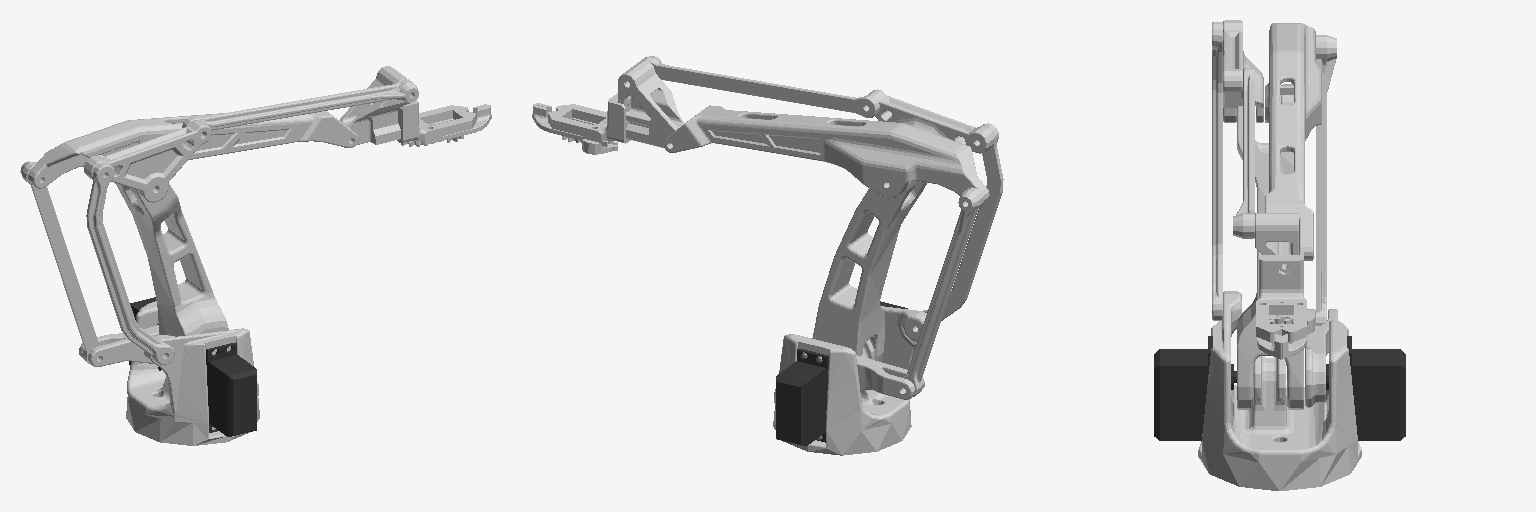
URDF robot description (EEZYbotARM_MK2):
<?xml version="1.0" encoding="UTF-8"?>
<robot name="EEZYbotARM_MK2">

  <!-- Link Definitions -->
  <link name="006_horarm_1">
    <inertial>
      <origin rpy="0.0 0.0 0.0" xyz="-0.04134701426427581 0.0075 0.222512351201859"/>
      <mass value="1.0"/>
      <inertia ixx="1.0" ixy="1.0" ixz="1.0" iyy="1.0" iyz="1.0" izz="1.0"/>
    </inertial>
    <visual>
      <origin rpy="1.2875e-17 0.07293846505771417 -7.7917e-16" xyz="-0.04134701426427581 0.0075 0.222512351201859"/>
      <geometry>
        <mesh filename="meshes/006_horarm_1.obj"/>
      </geometry>
      <material name="material">
        <color rgba="0.8431372549019608 0.8431372549019608 0.8431372549019608 1.0"/>
      </material>
    </visual>
    <collision>
      <origin rpy="0 0 0" xyz="0 0 0"/>
      <geometry>
        <mesh filename="meshes/006_horarm_1.obj"/>
      </geometry>
    </collision>
  </link>

  <link name="EBAmk2_02_1__001_base_1">
    <inertial>
      <origin rpy="1.5708 3.0531e-16 3.14159" xyz="1.00948e-14 -0.0095 -0.0425"/>
      <mass value="1.0"/>
      <inertia ixx="1.0" ixy="1.0" ixz="1.0" iyy="1.0" iyz="1.0" izz="1.0"/>
    </inertial>
    <visual>
      <origin rpy="3.14159 1.22465e-16 1.5708" xyz="-1.00357e-14 -0.0095 0.0685"/>
      <geometry>
        <mesh filename="meshes/EBAmk2_02_1__MG946R_2.stl"/>
      </geometry>
      <material name="material">
        <color rgba="0.2627450980392157 0.2627450980392157 0.2627450980392157 1.0"/>
      </material>
    </visual>
    <visual>
      <origin rpy="-1.5708 1.5708 0.0" xyz="-2.67825e-34 -0.043 0.013"/>
      <geometry>
        <mesh filename="meshes/EBAmk2_02_1__001_base_1.obj"/>
      </geometry>
      <material name="material">
        <color rgba="0.8431372549019608 0.8431372549019608 0.8431372549019608 1.0"/>
      </material>
    </visual>
    <visual>
      <origin rpy="-2.43377e-33 -1.22465e-16 1.5708" xyz="1.00948e-14 -0.0095 -0.0425"/>
      <geometry>
        <mesh filename="meshes/EBAmk2_02_1__MG946R_1.stl"/>
      </geometry>
      <material name="material">
        <color rgba="0.2627450980392157 0.2627450980392157 0.2627450980392157 1.0"/>
      </material>
    </visual>
    <collision>
      <origin rpy="0 0 0" xyz="0 0 0"/>
      <geometry>
        <mesh filename="meshes/EBAmk2_02_1__001_base_1.obj"/>
      </geometry>
    </collision>
  </link>

  <link name="009_trialinkfront_1">
    <inertial>
      <origin rpy="1.5708 1.93641e-16 -3.1362" xyz="-0.0549 -0.01335 -0.0027"/>
      <mass value="1.0"/>
      <inertia ixx="1.0" ixy="1.0" ixz="1.0" iyy="1.0" iyz="1.0" izz="1.0"/>
    </inertial>
    <visual>
      <origin rpy="1.5708 1.27055e-16 3.14159" xyz="-0.0453 -0.00945 -0.0087"/>
      <geometry>
        <mesh filename="meshes/EBAmk2_03_1__014_clawbase_1.stl"/>
      </geometry>
      <material name="material">
        <color rgba="0.8392156862745098 0.8392156862745098 0.8392156862745098 1.0"/>
      </material>
    </visual>
    <visual>
      <origin rpy="3.14159 -2.1825e-17 -2.9577e-16" xyz="-0.0538 -0.01775 3.5e-4"/>
      <geometry>
        <mesh filename="meshes/EBAmk2_03_1__018_clawgeardriven_1.stl"/>
      </geometry>
      <material name="material">
        <color rgba="0.8392156862745098 0.8392156862745098 0.8392156862745098 1.0"/>
      </material>
    </visual>
    <visual>
      <origin rpy="-1.5708 -1.5708 0.0" xyz="-0.0393 -0.0065 0.0"/>
      <geometry>
        <mesh filename="meshes/009_trialinkfront_1.stl"/>
      </geometry>
      <material name="material">
        <color rgba="0.8431372549019608 0.8431372549019608 0.8431372549019608 1.0"/>
      </material>
    </visual>
    <visual>
      <origin rpy="8.73647e-17 9.47009e-19 3.14159" xyz="-0.0538 -0.01275 3.5e-4"/>
      <geometry>
        <mesh filename="meshes/EBAmk2_03_1__017_clawfingersx_1.stl"/>
      </geometry>
      <material name="material">
        <color rgba="0.8431372549019608 0.8431372549019608 0.8431372549019608 1.0"/>
      </material>
    </visual>
    <visual>
      <origin rpy="-3.14159 2.34986e-17 3.14159" xyz="-0.0538 -0.00975 -0.01775"/>
      <geometry>
        <mesh filename="meshes/EBAmk2_03_1__015_clawfingerdx_1.obj"/>
      </geometry>
      <material name="material">
        <color rgba="0.8431372549019608 0.8431372549019608 0.8431372549019608 1.0"/>
      </material>
    </visual>
    <collision>
      <origin rpy="0 0 0" xyz="0 0 0"/>
      <geometry>
        <mesh filename="meshes/EBAmk2_03_1__Part_1_1.stl"/>
      </geometry>
    </collision>
  </link>

  <link name="002_mainarm_1">
    <inertial>
      <origin rpy="1.5708 1.22465e-16 0.31128" xyz="-6.93889e-18 0.135 -0.00525"/>
      <mass value="1.0"/>
      <inertia ixx="1.0" ixy="1.0" ixz="1.0" iyy="1.0" iyz="1.0" izz="1.0"/>
    </inertial>
    <visual>
      <origin rpy="-1.5708 9.03056e-33 3.14159" xyz="-6.93889e-18 0.135 -0.00525"/>
      <geometry>
        <mesh filename="meshes/002_mainarm_1.stl"/>
      </geometry>
      <material name="material">
        <color rgba="0.8392156862745098 0.8392156862745098 0.8392156862745098 1.0"/>
      </material>
    </visual>
    <collision>
      <origin rpy="0 0 0" xyz="0 0 0"/>
      <geometry>
        <mesh filename="meshes/002_mainarm_1.stl"/>
      </geometry>
    </collision>
  </link>

  <link name="008_link_147_1">
    <inertial>
      <origin rpy="-1.5708 -1.95478e-16 -3.073" xyz="0.0735 0.0 0.0"/>
      <mass value="1.0"/>
      <inertia ixx="1.0" ixy="1.0" ixz="1.0" iyy="1.0" iyz="1.0" izz="1.0"/>
    </inertial>
    <visual>
      <origin rpy="0 0 0" xyz="0.0735 0.0 0.0"/>
      <geometry>
        <mesh filename="meshes/008_link_147_1.obj"/>
      </geometry>
      <material name="material">
        <color rgba="0.8431372549019608 0.8431372549019608 0.8431372549019608 1.0"/>
      </material>
    </visual>
    <collision>
      <origin rpy="0 0 0" xyz="0 0 0"/>
      <geometry>
        <mesh filename="meshes/008_link_147_1.obj"/>
      </geometry>
    </collision>
  </link>

  <link name="003_VArm_1">
    <inertial>
      <origin rpy="1.5708 4.31799e-15 -1.64373" xyz="1.38778e-17 -0.057 -0.005"/>
      <mass value="1.0"/>
      <inertia ixx="1.0" ixy="1.0" ixz="1.0" iyy="1.0" iyz="1.0" izz="1.0"/>
    </inertial>
    <visual>
      <origin rpy="0 1.83697e-16 1.5708" xyz="1.38778e-17 -0.057 -0.005"/>
      <geometry>
        <mesh filename="meshes/003_VArm_1.stl"/>
      </geometry>
      <material name="material">
        <color rgba="0.8392156862745098 0.8392156862745098 0.8392156862745098 1.0"/>
      </material>
    </visual>
    <collision>
      <origin rpy="0 0 0" xyz="0 0 0"/>
      <geometry>
        <mesh filename="meshes/003_VArm_1.stl"/>
      </geometry>
    </collision>
  </link>

  <link name="007_trialink_1">
    <inertial>
      <origin rpy="1.5708 6.56709e-16 0.110752" xyz="0.0 0.0 0.003"/>
      <mass value="1.0"/>
      <inertia ixx="1.0" ixy="1.0" ixz="1.0" iyy="1.0" iyz="1.0" izz="1.0"/>
    </inertial>
    <visual>
      <origin rpy="1.5708 -5.54668e-32 0.0" xyz="0.0 0.0 0.003"/>
      <geometry>
        <mesh filename="meshes/007_trialink_1.obj"/>
      </geometry>
      <material name="material">
        <color rgba="0.8431372549019608 0.8431372549019608 0.8431372549019608 1.0"/>
      </material>
    </visual>
    <collision>
      <origin rpy="0 0 0" xyz="0 0 0"/>
      <geometry>
        <mesh filename="meshes/007_trialink_1.obj"/>
      </geometry>
    </collision>
  </link>

  <link name="004_link_135_1">
    <inertial>
      <origin rpy="-1.5708 -1.1803e-14 1.25952" xyz="0.0675 -3.46945e-18 0.0"/>
      <mass value="1.0"/>
      <inertia ixx="1.0" ixy="1.0" ixz="1.0" iyy="1.0" iyz="1.0" izz="1.0"/>
    </inertial>
    <visual>
      <origin rpy="3.14159 7.88861e-31 -5.55112e-17" xyz="0.0675 -3.46945e-18 0.0"/>
      <geometry>
        <mesh filename="meshes/004_link_135_1.obj"/>
      </geometry>
      <material name="material">
        <color rgba="0.8431372549019608 0.8431372549019608 0.8431372549019608 1.0"/>
      </material>
    </visual>
    <collision>
      <origin rpy="0 0 0" xyz="0 0 0"/>
      <geometry>
        <mesh filename="meshes/004_link_135_1.obj"/>
      </geometry>
    </collision>
  </link>

  <link name="EBAmk2_03_1__016_1">
    <inertial>
      <origin rpy="3.14159 -0.00539241 0.669058" xyz="-0.151703 -0.201779 -0.0042"/>
      <mass value="1.0"/>
      <inertia ixx="1.0" ixy="1.0" ixz="1.0" iyy="1.0" iyz="1.0" izz="1.0"/>
    </inertial>
    <visual>
      <origin rpy="-1.5708 -6.67869e-17 -0.00539241" xyz="-0.151703 -0.201779 -0.0042"/>
      <geometry>
        <mesh filename="meshes/EBAmk2_03_1__016_1.stl"/>
      </geometry>
      <material name="material">
        <color rgba="0.8392156862745098 0.8392156862745098 0.8392156862745098 1.0"/>
      </material>
    </visual>
    <collision>
      <origin rpy="0 0 0" xyz="0 0 0"/>
      <geometry>
        <mesh filename="meshes/EBAmk2_03_1__016_1.stl"/>
      </geometry>
    </collision>
  </link>

  <link name="005_link_135angled_1">
    <inertial>
      <origin rpy="1.5708 1.92908e-16 -1.25956" xyz="0.0675 -2.60209e-18 -3.46945e-18"/>
      <mass value="1.0"/>
      <inertia ixx="1.0" ixy="1.0" ixz="1.0" iyy="1.0" iyz="1.0" izz="1.0"/>
    </inertial>
    <visual>
      <origin rpy="3.14159 -4.93038e-32 0.0" xyz="0.0675 -2.60209e-18 -3.46945e-18"/>
      <geometry>
        <mesh filename="meshes/005_link_135angled_1.stl"/>
      </geometry>
      <material name="material">
        <color rgba="0.8431372549019608 0.8431372549019608 0.8431372549019608 1.0"/>
      </material>
    </visual>
    <collision>
      <origin rpy="0 0 0" xyz="0 0 0"/>
      <geometry>
        <mesh filename="meshes/005_link_135angled_1.stl"/>
      </geometry>
    </collision>
  </link>

  <!-- Joint Definitions (9 joints for a tree with 10 links) -->
  <joint name="Cylindrical_3" type="continuous">
    <origin rpy="-7.88702e-17 1.82847e-16 -2.83032" xyz="6.93889e-18 0.135 -0.0135"/>
    <parent link="002_mainarm_1"/>
    <child link="EBAmk2_02_1__001_base_1"/>
    <axis xyz="0 0 1"/>
    <limit effort="10.0" lower="-1.79769e+308" upper="1.79769e+308" velocity="1.0"/>
  </joint>

  <joint name="Revolute_4" type="revolute">
    <origin rpy="-1.5708 -0.31128 1.22465e-16" xyz="-0.041347 0.0005 0.222512"/>
    <parent link="006_horarm_1"/>
    <child link="002_mainarm_1"/>
    <axis xyz="0 0 1"/>
    <limit effort="10.0" lower="-1.79769e+308" upper="1.79769e+308" velocity="1.0"/>
  </joint>

  <joint name="Cylindrical_4" type="continuous">
    <origin rpy="-4.22896e-16 -5.84567e-16 0.200524" xyz="-2.42861e-17 2.77556e-17 -0.0215"/>
    <parent link="002_mainarm_1"/>
    <child link="007_trialink_1"/>
    <axis xyz="0 0 1"/>
    <limit effort="10.0" lower="-1.79769e+308" upper="1.79769e+308" velocity="1.0"/>
  </joint>

  <joint name="Revolute_6" type="revolute">
    <origin rpy="6.31378e-16 -4.48168e-16 1.37032" xyz="-0.0355 -0.024264 -0.007"/>
    <parent link="007_trialink_1"/>
    <child link="005_link_135angled_1"/>
    <axis xyz="0 0 1"/>
    <limit effort="10.0" lower="-1.79769e+308" upper="1.79769e+308" velocity="1.0"/>
  </joint>

  <joint name="Revolute_8" type="revolute">
    <origin rpy="1.5708 1.25952 -3.58709e-15" xyz="-0.098195 0.01745 0.226666"/>
    <parent link="006_horarm_1"/>
    <child link="004_link_135_1"/>
    <axis xyz="0 0 1"/>
    <limit effort="10.0" lower="-1.79769e+308" upper="1.79769e+308" velocity="1.0"/>
  </joint>

  <joint name="Cylindrical_2" type="continuous">
    <origin rpy="-3.14159 5.71537e-15 -0.384215" xyz="0.135 -3.46945e-18 -5e-5"/>
    <parent link="004_link_135_1"/>
    <child link="003_VArm_1"/>
    <axis xyz="0 0 1"/>
    <limit effort="10.0" lower="-1.79769e+308" upper="1.79769e+308" velocity="1.0"/>
  </joint>

  <joint name="Revolute_3" type="revolute">
    <origin rpy="1.5708 0.00539241 -3.14159" xyz="0.105262 0.0095 0.2118"/>
    <parent link="006_horarm_1"/>
    <child link="009_trialinkfront_1"/>
    <axis xyz="0 0 1"/>
    <limit effort="10.0" lower="-1.79769e+308" upper="1.79769e+308" velocity="1.0"/>
  </joint>

  <joint name="Revolute_5" type="revolute">
    <origin rpy="3.14159 1.04342e-17 0.0739849" xyz="-0.0328 0.0285 -0.022"/>
    <parent link="009_trialinkfront_1"/>
    <child link="008_link_147_1"/>
    <axis xyz="0 0 1"/>
    <limit effort="10.0" lower="-1.79769e+308" upper="1.79769e+308" velocity="1.0"/>
  </joint>

  <joint name="EBAmk2_03" type="revolute">
    <origin rpy="-1.5708 -0.669058 3.14159" xyz="-0.31585 -0.01675 -0.0728836"/>
    <parent link="009_trialinkfront_1"/>
    <child link="EBAmk2_03_1__016_1"/>
    <axis xyz="0 0 1"/>
    <limit effort="10.0" lower="-1.79769e+308" upper="1.79769e+308" velocity="1.0"/>
  </joint>

</robot>

--- Facts derived from the render (not from the file) ---
Views: 3 orthographic renders of the robot side by side, from view 1: azimuth 30°, elevation 25°; view 2: azimuth 150°, elevation 25°; view 3: azimuth 270°, elevation 25°.
Model EEZYbotARM_MK2 with 10 links and 9 joints (6 revolute, 3 continuous), rooted at 006_horarm_1, posed all joints at 0.
Links seen in each view (by area): view 1: EBAmk2_02_1__001_base_1, 006_horarm_1, 002_mainarm_1, 009_trialinkfront_1, 007_trialink_1, 005_link_135angled_1, 008_link_147_1, 004_link_135_1, 003_VArm_1; view 2: 006_horarm_1, EBAmk2_02_1__001_base_1, 002_mainarm_1, 009_trialinkfront_1, 008_link_147_1, 004_link_135_1, 005_link_135angled_1, 007_trialink_1, 003_VArm_1; view 3: EBAmk2_02_1__001_base_1, 006_horarm_1, 009_trialinkfront_1, 002_mainarm_1, 005_link_135angled_1, 004_link_135_1, 007_trialink_1, 008_link_147_1, 003_VArm_1.
Boxes of the visible links, <box> form: EBAmk2_02_1__001_base_1: <box>126,297,259,445</box>; 006_horarm_1: <box>28,111,358,188</box>; 002_mainarm_1: <box>115,183,228,336</box>; 009_trialinkfront_1: <box>339,66,491,147</box>; 007_trialink_1: <box>84,120,211,202</box>; 005_link_135angled_1: <box>86,162,174,364</box>; 008_link_147_1: <box>182,79,418,130</box>; 004_link_135_1: <box>20,161,99,364</box>; 003_VArm_1: <box>79,325,158,366</box>; 006_horarm_1: <box>663,105,989,203</box>; EBAmk2_02_1__001_base_1: <box>773,301,926,455</box>; 002_mainarm_1: <box>812,181,926,361</box>; 009_trialinkfront_1: <box>532,60,684,154</box>; 008_link_147_1: <box>641,56,879,117</box>; 004_link_135_1: <box>903,187,983,396</box>; 005_link_135angled_1: <box>923,123,1003,320</box>; 007_trialink_1: <box>868,89,994,153</box>; 003_VArm_1: <box>856,355,924,399</box>; EBAmk2_02_1__001_base_1: <box>1154,291,1405,490</box>; 006_horarm_1: <box>1265,23,1321,260</box>; 009_trialinkfront_1: <box>1255,213,1314,359</box>; 002_mainarm_1: <box>1237,84,1303,409</box>; 005_link_135angled_1: <box>1212,22,1222,320</box>; 004_link_135_1: <box>1316,35,1336,325</box>; 007_trialink_1: <box>1223,20,1263,122</box>; 008_link_147_1: <box>1233,68,1254,238</box>; 003_VArm_1: <box>1305,309,1337,407</box>.
Size in the robot's own frame: 0.3105 by 0.124 by 0.206 metres.
Meshes: 16 distinct files referenced, 16 mesh visuals loaded (10 binary STL, 6 OBJ).